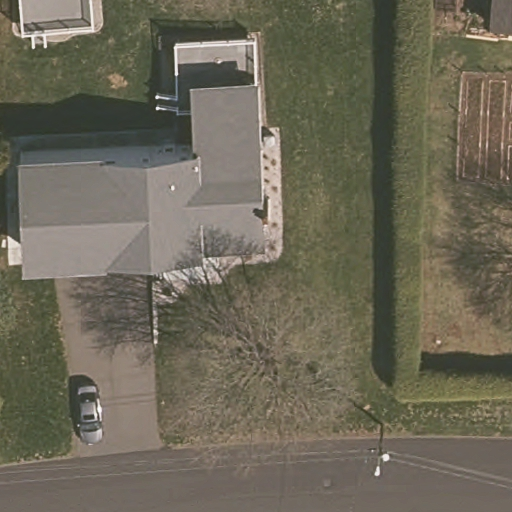DT: (368, 445, 395, 478)
